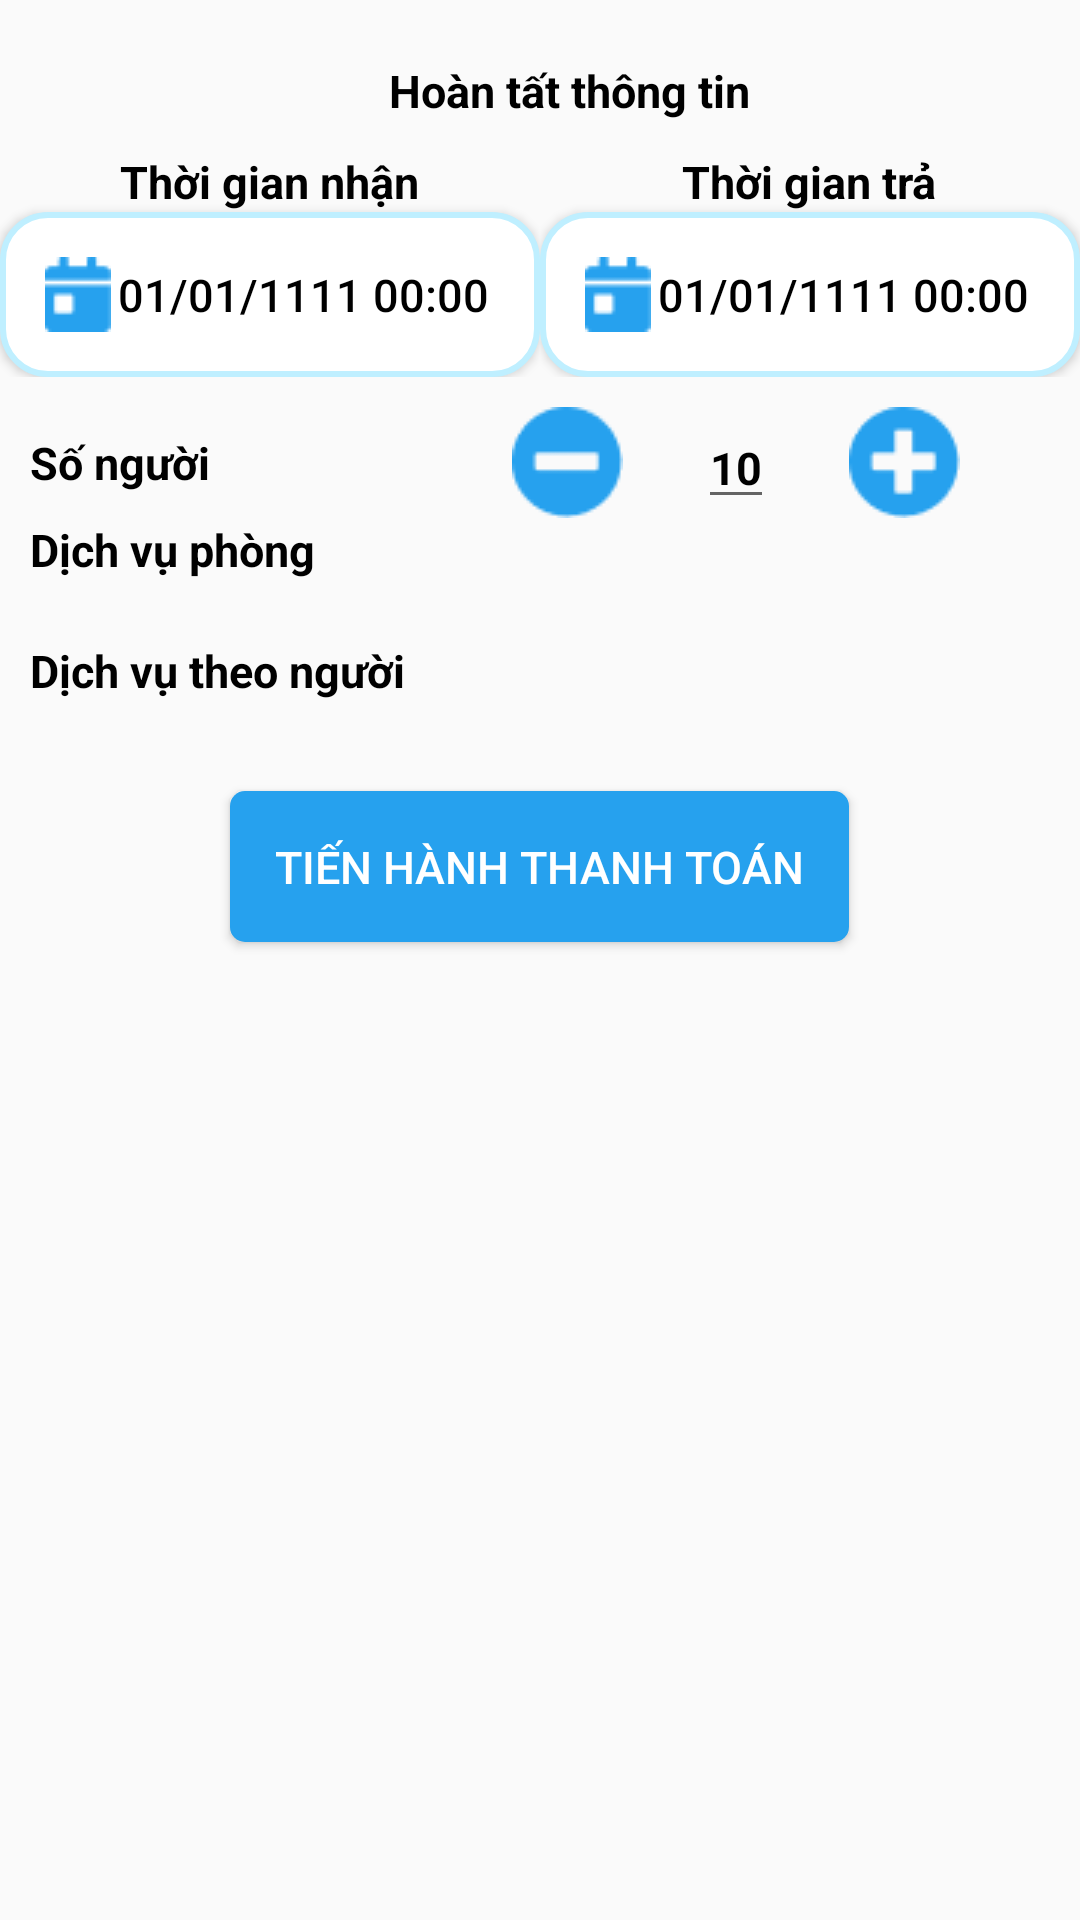

Screen size 1080x1920. Icon name, then its center in pixels as point (x, y):
cong: point (904, 462)
tru: point (567, 462)
